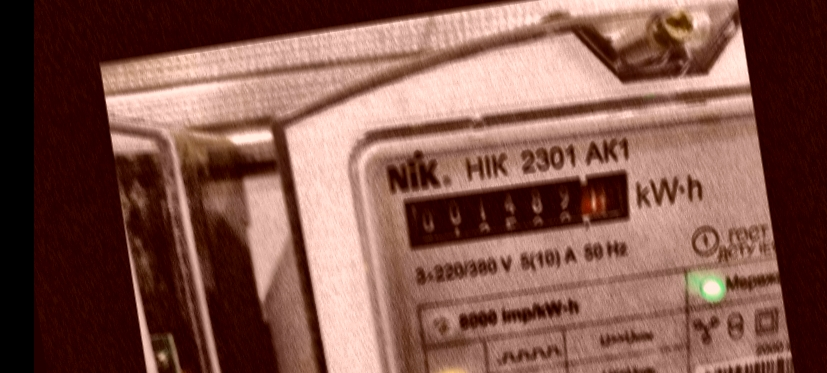0: (442, 197, 461, 224), (416, 205, 434, 232)
1: (470, 192, 488, 223), (582, 181, 598, 213)
4: (497, 189, 517, 217)
8: (523, 185, 544, 214)
9: (552, 182, 570, 209)
screen: (384, 153, 649, 267)
